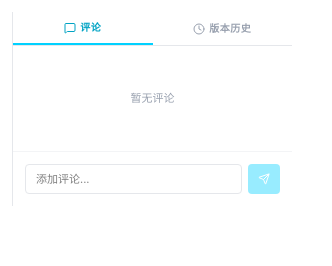
Test: CommentPanel › Tab 切换 › 切换到版本历史 tab 显示快照列表
Click the button "版本历史" at {"x": 222, "y": 28}, box [152,12,292,45]
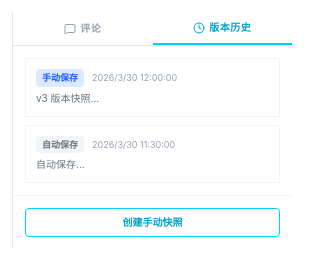
Check: the text "v3 版本快照..." is shown, box [36,92,99,104]
